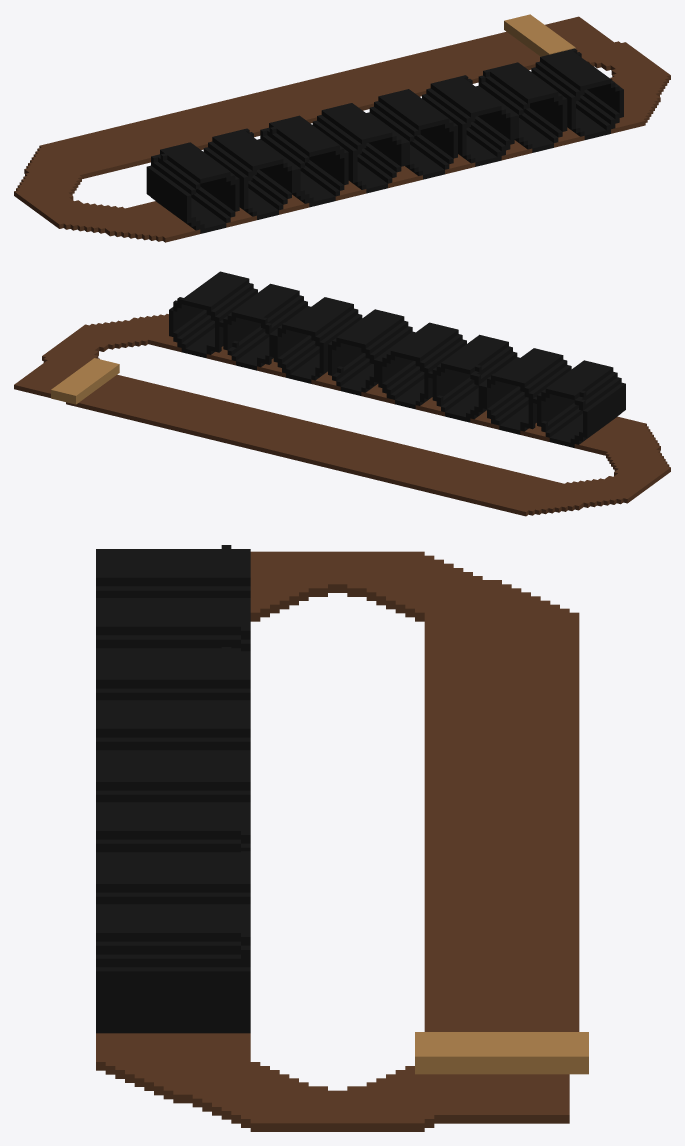
Rendered from torso_bandolier_grenade.glb.
3 views of the same model, one above another, from view 1: azimuth 30°, elevation 25°; view 2: azimuth 150°, elevation 25°; view 3: azimuth 270°, elevation 25° (orthographic). The views are drawn at different scales.
Parts seen in each view (by area): view 1: torso_bandolier_grenade:compound; view 2: torso_bandolier_grenade:compound; view 3: torso_bandolier_grenade:compound.
Boxes of the visible parts, box(x1,y1,x2,y2) form: torso_bandolier_grenade:compound: box(14, 14, 670, 242); torso_bandolier_grenade:compound: box(14, 271, 670, 516); torso_bandolier_grenade:compound: box(96, 545, 588, 1131).
Size of the model in its own units: 0.56 by 0.048 by 0.204.
